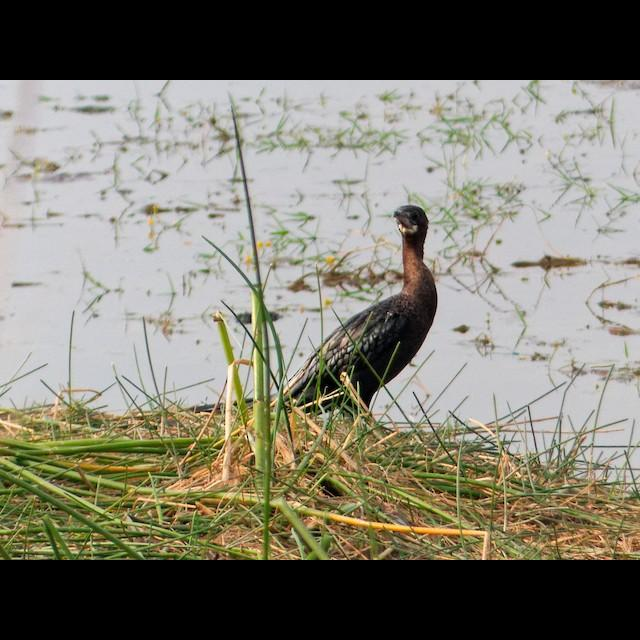cormorant: (190, 198, 440, 424)
